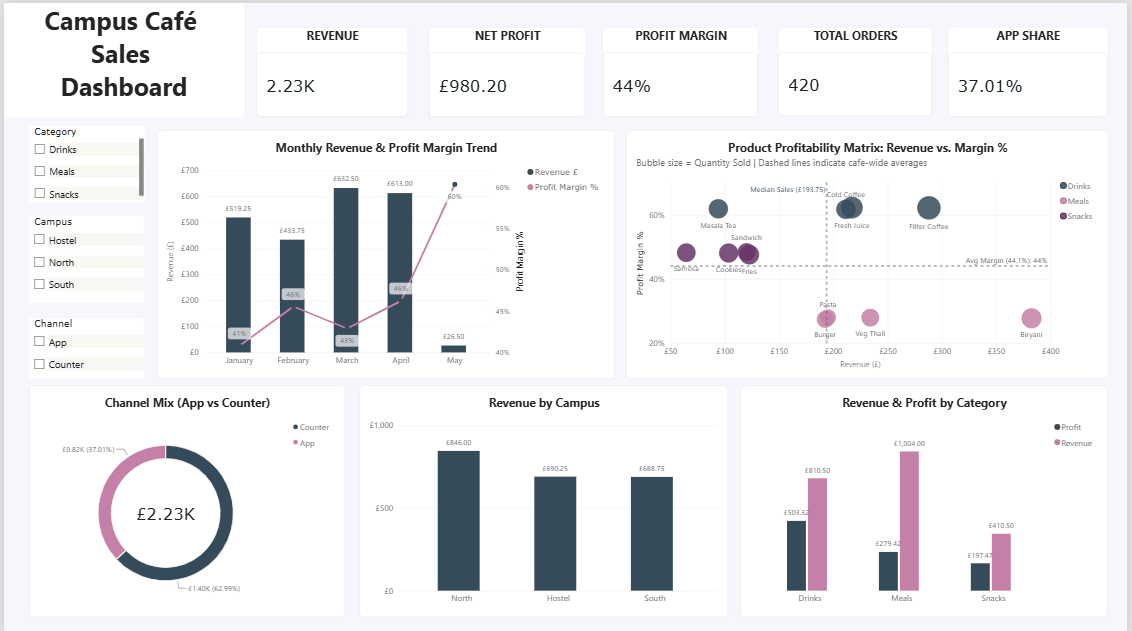

This screenshot's page, from the dashboard's own definition file:
{"tool":"powerbi","page":{"name":"Cafe Overview","canvas":[1920,1080],"ordinal":0},"visuals":[{"type":"textbox","box":[0,0,410.4,195.6],"z":0},{"type":"cardVisual","title":"REVENUE","fields":{"Data":["Sum(campus_cafe_project.Sales)"]},"box":[430.8,41,260.1,155.1],"z":1000},{"type":"cardVisual","title":"NET PROFIT","fields":{"Data":["campus_cafe_project.Profit"]},"box":[725.6,41,269.6,155.1],"z":2000},{"type":"cardVisual","title":"TOTAL ORDERS","fields":{"Data":["campus_cafe_project.Orders"]},"box":[1323.1,41,264.1,153.8],"z":3000},{"type":"cardVisual","title":"PROFIT MARGIN","fields":{"Data":["campus_cafe_project.Profit Margin %"]},"box":[1023.1,41,267.2,155.1],"z":4000},{"type":"slicer","fields":{"Values":["campus_cafe_project.Campus"]},"box":[42.9,365,195.6,147.9],"z":5000},{"type":"clusteredColumnChart","title":"Revenue & Profit by Category","fields":{"Category":["campus_cafe_project.Category"],"Y":["campus_cafe_project.Profit","Sum(campus_cafe_project.Total Sales)"]},"box":[1259.8,653.7,627.5,396.1],"z":6000},{"type":"columnChart","title":"Revenue by Campus","fields":{"Category":["campus_cafe_project.Campus"],"Y":["Sum(campus_cafe_project.Total Sales)"]},"box":[608.4,653.7,629.9,396.1],"z":7000},{"type":"donutChart","title":"Channel Mix (App vs Counter)","fields":{"Category":["campus_cafe_project.Channel"],"Y":["Sum(campus_cafe_project.Sales)"]},"box":[42.9,653.7,539.2,396.1],"z":8000},{"type":"lineClusteredColumnComboChart","title":"Monthly Revenue & Profit Margin Trend","fields":{"Category":["campus_cafe_project.Order_Date.Variation.Date Hierarchy.Month"],"Y":["Sum(campus_cafe_project.Total Sales)"],"Y2":["campus_cafe_project.Profit Margin %"]},"box":[262.5,217.1,782.6,424.7],"z":9000},{"type":"slicer","fields":{"Values":["campus_cafe_project.Channel"]},"box":[43.6,538.5,195.6,105],"z":10000},{"type":"scatterChart","title":"Product Profitability Matrix: Revenue vs. Margin %","fields":{"Category":["campus_cafe_project.Item"],"Series":["campus_cafe_project.Category"],"Size":["campus_cafe_project.Total Quantity"],"X":["Sum(campus_cafe_project.Total Sales)"],"Y":["campus_cafe_project.Profit Margin %"]},"box":[1064.1,217.1,823.1,424.7],"z":11000},{"type":"slicer","fields":{"Values":["campus_cafe_project.Category"]},"box":[42.9,210,195.6,131.2],"z":12000},{"type":"cardVisual","title":"APP SHARE","fields":{"Data":["campus_cafe_project.App Share %"]},"box":[1612.9,40.6,274.4,155.1],"z":13000}]}

Visuals, with their boxes in screenshot pixels (x1, y1, x2, y2), scaled from the page's 1920x1080 canvas onto the 1132x631 screenshot:
textbox: <region>0, 0, 242, 114</region>
"REVENUE" cardVisual: <region>254, 24, 407, 115</region>
"NET PROFIT" cardVisual: <region>428, 24, 587, 115</region>
"TOTAL ORDERS" cardVisual: <region>780, 24, 936, 114</region>
"PROFIT MARGIN" cardVisual: <region>603, 24, 761, 115</region>
slicer - campus_cafe_project.Campus: <region>25, 213, 141, 300</region>
"Revenue & Profit by Category" clusteredColumnChart: <region>743, 382, 1113, 613</region>
"Revenue by Campus" columnChart: <region>359, 382, 730, 613</region>
"Channel Mix (App vs Counter)" donutChart: <region>25, 382, 343, 613</region>
"Monthly Revenue & Profit Margin Trend" lineClusteredColumnComboChart: <region>155, 127, 616, 375</region>
slicer - campus_cafe_project.Channel: <region>26, 315, 141, 376</region>
"Product Profitability Matrix: Revenue vs. Margin %" scatterChart: <region>627, 127, 1113, 375</region>
slicer - campus_cafe_project.Category: <region>25, 123, 141, 199</region>
"APP SHARE" cardVisual: <region>951, 24, 1113, 114</region>
